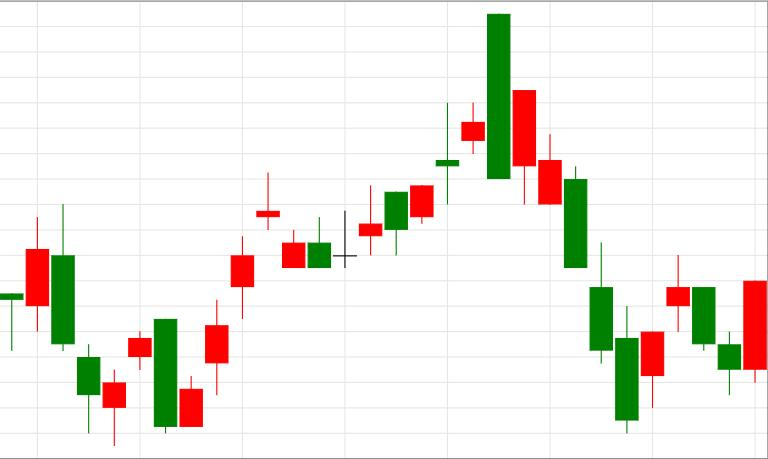bearish_engulfing_fall: (358, 14, 510, 256)
